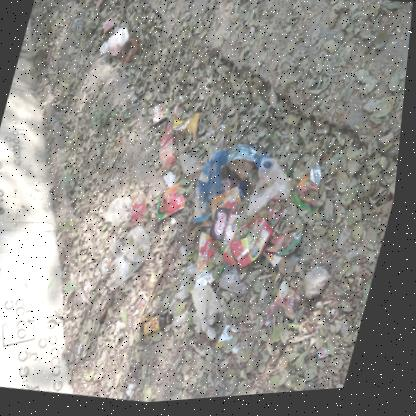Plastic: (197, 147, 275, 226), (105, 227, 154, 293), (268, 204, 309, 272), (250, 161, 293, 219), (234, 221, 277, 272), (195, 288, 228, 343), (295, 166, 324, 218), (227, 224, 259, 270), (200, 235, 225, 287), (213, 210, 246, 244), (160, 185, 188, 225), (224, 266, 254, 301), (215, 190, 245, 223), (161, 122, 180, 172), (99, 29, 128, 58), (279, 286, 307, 316), (174, 115, 201, 144), (109, 199, 135, 229), (224, 328, 249, 358), (173, 294, 194, 329), (146, 316, 177, 339), (144, 276, 162, 311), (269, 301, 290, 330), (134, 194, 149, 231), (205, 128, 227, 153), (182, 157, 207, 178), (232, 183, 252, 203), (175, 105, 184, 137), (154, 105, 167, 126), (102, 19, 115, 36), (85, 281, 94, 302), (324, 348, 335, 364), (198, 281, 212, 292), (189, 266, 201, 278), (183, 248, 191, 261), (97, 0, 102, 6)
Waste: (165, 171, 180, 191)
